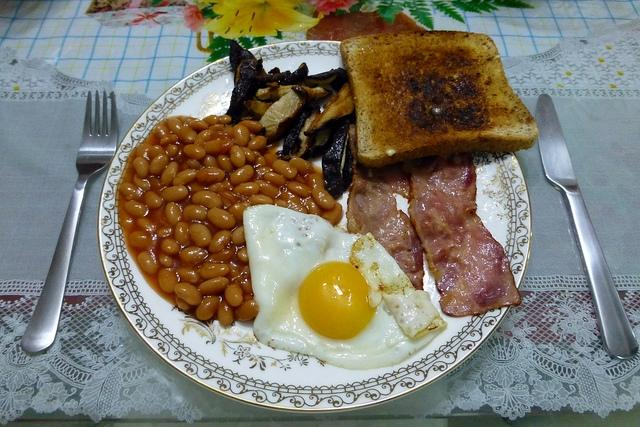mushroom: (256, 85, 309, 145), (282, 103, 322, 162), (322, 120, 349, 198), (255, 85, 332, 103), (278, 62, 309, 86), (243, 100, 274, 122), (304, 68, 341, 84), (230, 40, 243, 71), (267, 67, 280, 87)
